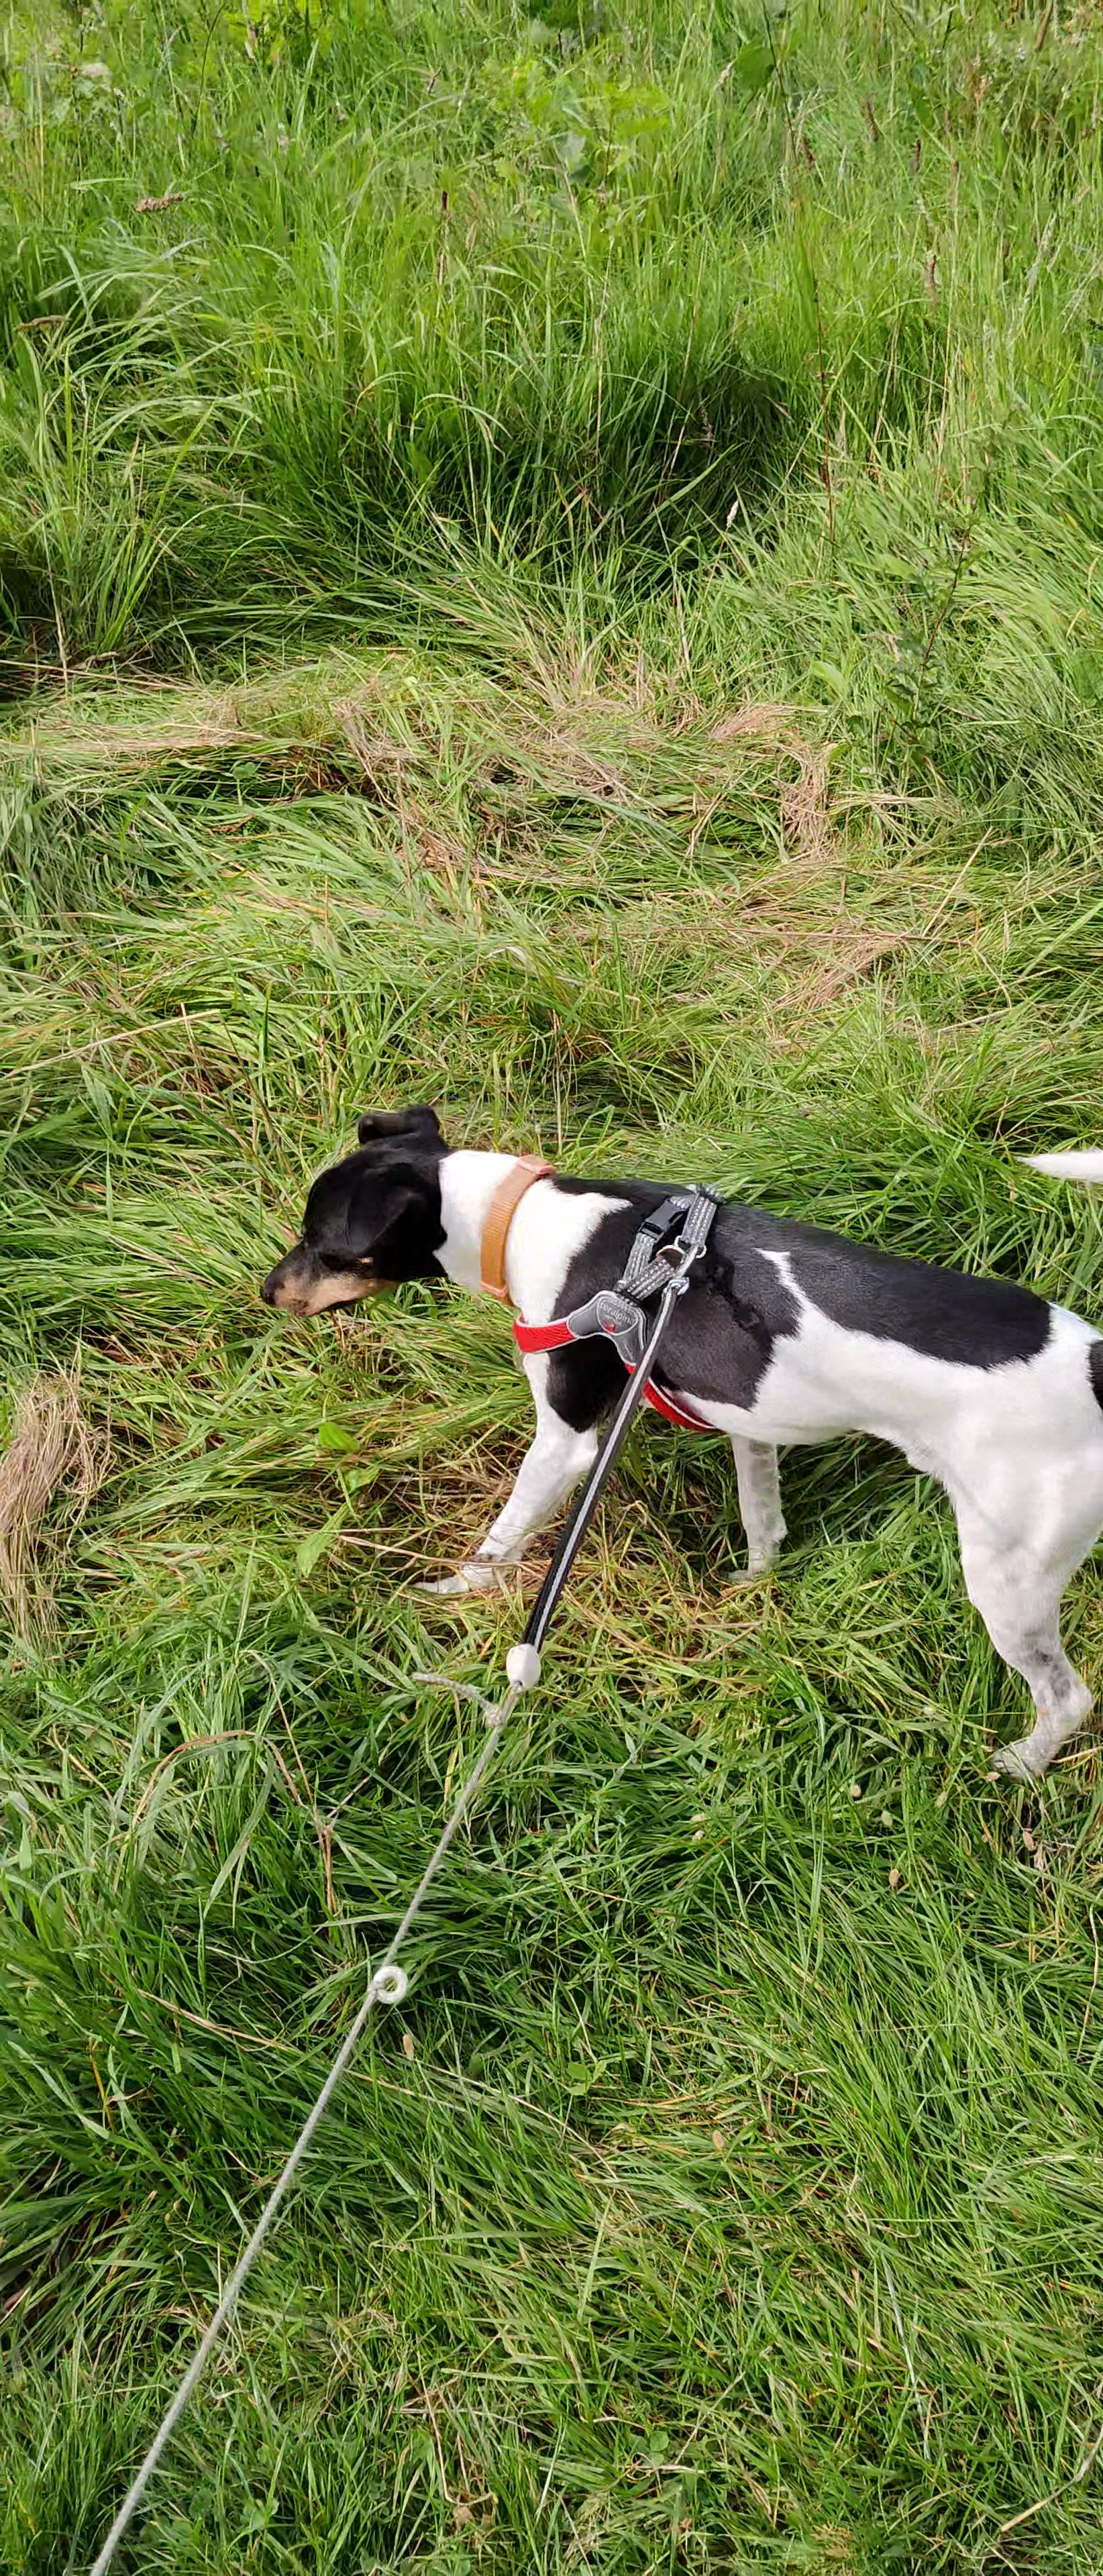Dog: (248, 1097, 1103, 1796)
